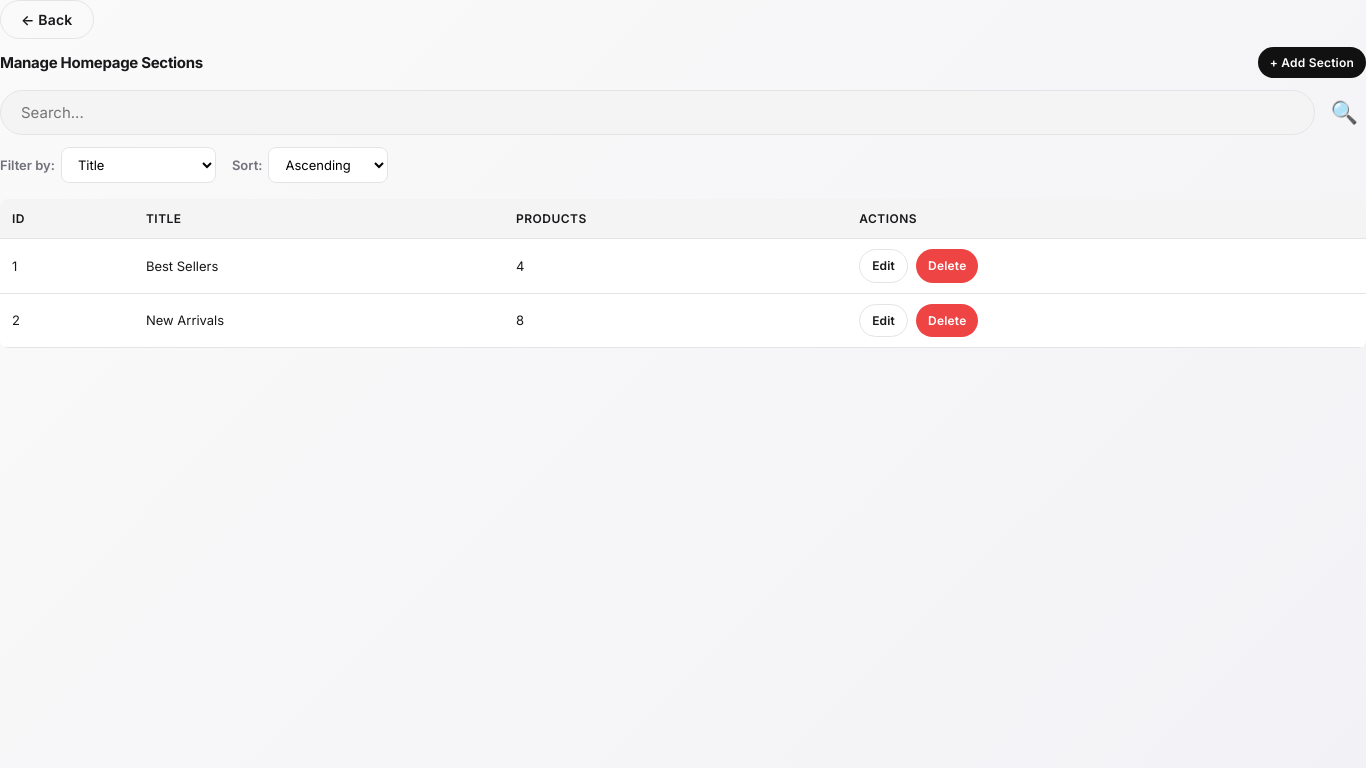
Test: AdminHomeSections › Delete › should disable button while deleting
Click the button "Delete" in the row of "Best Sellers".
click(947, 266)  # box [916, 249, 978, 283]
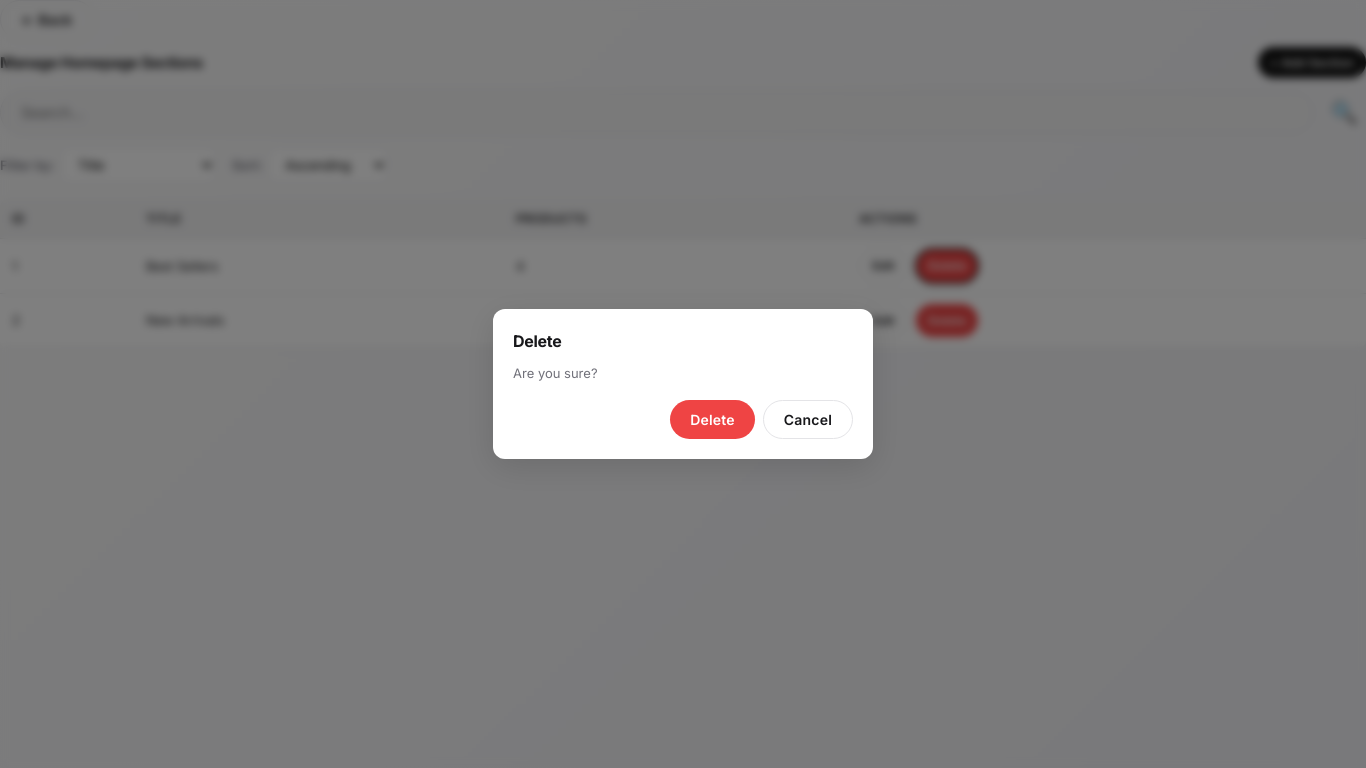
Click the button with class "btn-danger" showing "Delete".
click(712, 419)  # box [670, 400, 755, 439]
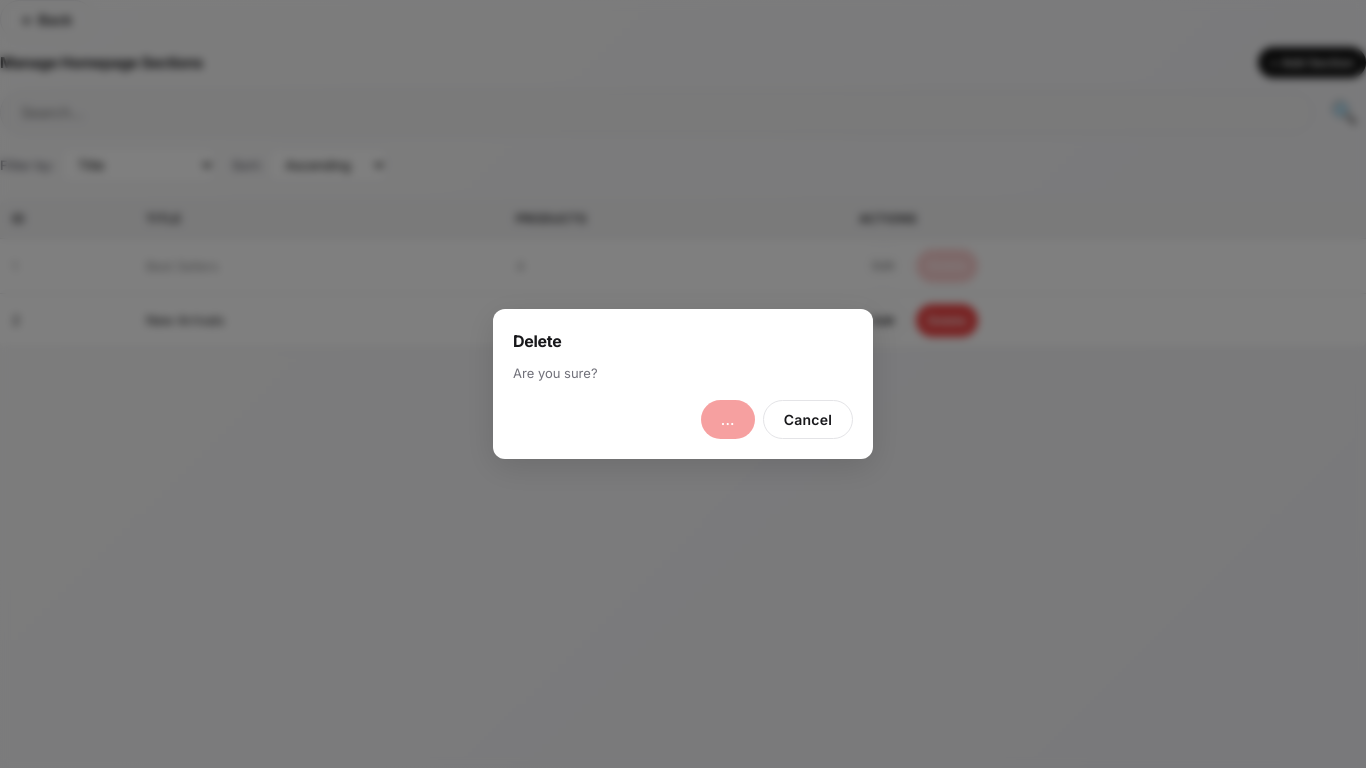
Check: the button with class "btn-danger" showing "..." is disabled, box [701, 400, 755, 439]
